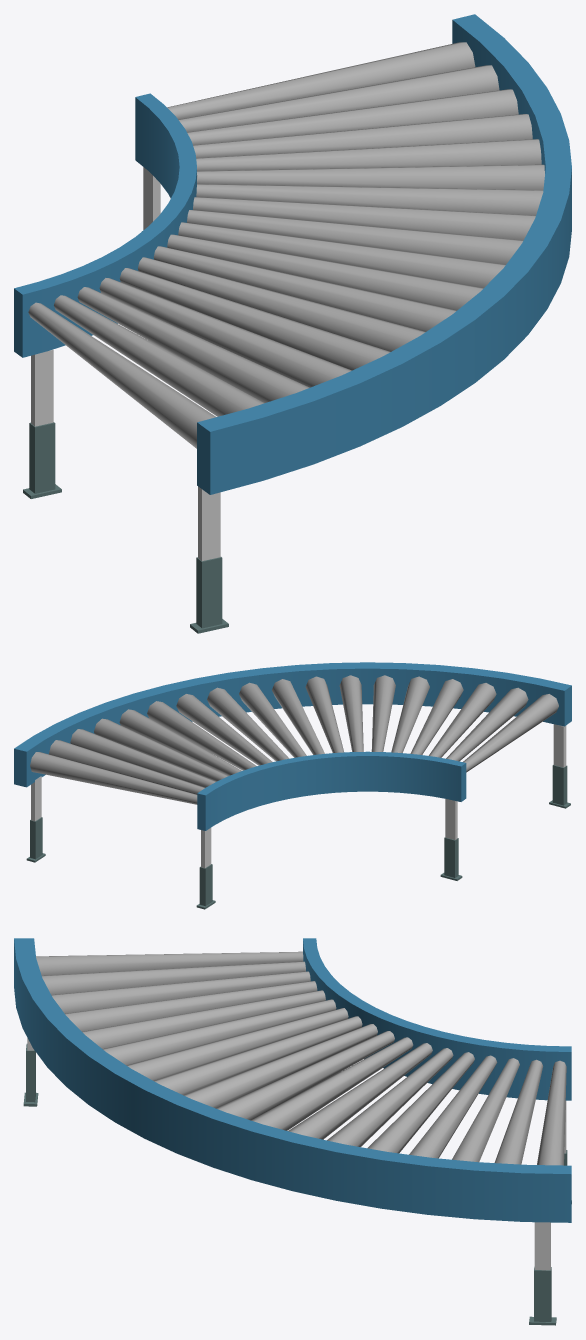
Rendered from conveyor2.glb.
The picture shows the model from 3 angles, top to bottom: view 1: azimuth 30°, elevation 25°; view 2: azimuth 150°, elevation 25°; view 3: azimuth 270°, elevation 25°; orthographic projection. The views are drawn at different scales.
Visible parts, largest first — view 1: m47.001, m27.002, m28.003, m29.005, m29.004; view 2: m47.001, m27.002, m28.003, m28.002, m29.005, m29.004; view 3: m47.001, m27.002, m28.002, m29.004, m28.003.
Part boxes in pixels (box(x1,y1,x2,y2)): m47.001: box(28, 42, 544, 448); m27.002: box(14, 14, 571, 494); m28.003: box(23, 422, 228, 633); m29.005: box(31, 349, 220, 561); m29.004: box(143, 167, 160, 229); m47.001: box(30, 675, 558, 804); m27.002: box(14, 662, 571, 830); m28.003: box(440, 765, 570, 880); m28.002: box(26, 817, 215, 909); m29.005: box(445, 724, 566, 839); m29.004: box(31, 776, 211, 868); m47.001: box(36, 951, 566, 1165); m27.002: box(14, 938, 571, 1222); m28.002: box(529, 1150, 571, 1325); m29.004: box(534, 1101, 566, 1270); m28.003: box(23, 1044, 38, 1106).
Size of the model in its own units: 2.09 by 0.6509 by 2.08.
